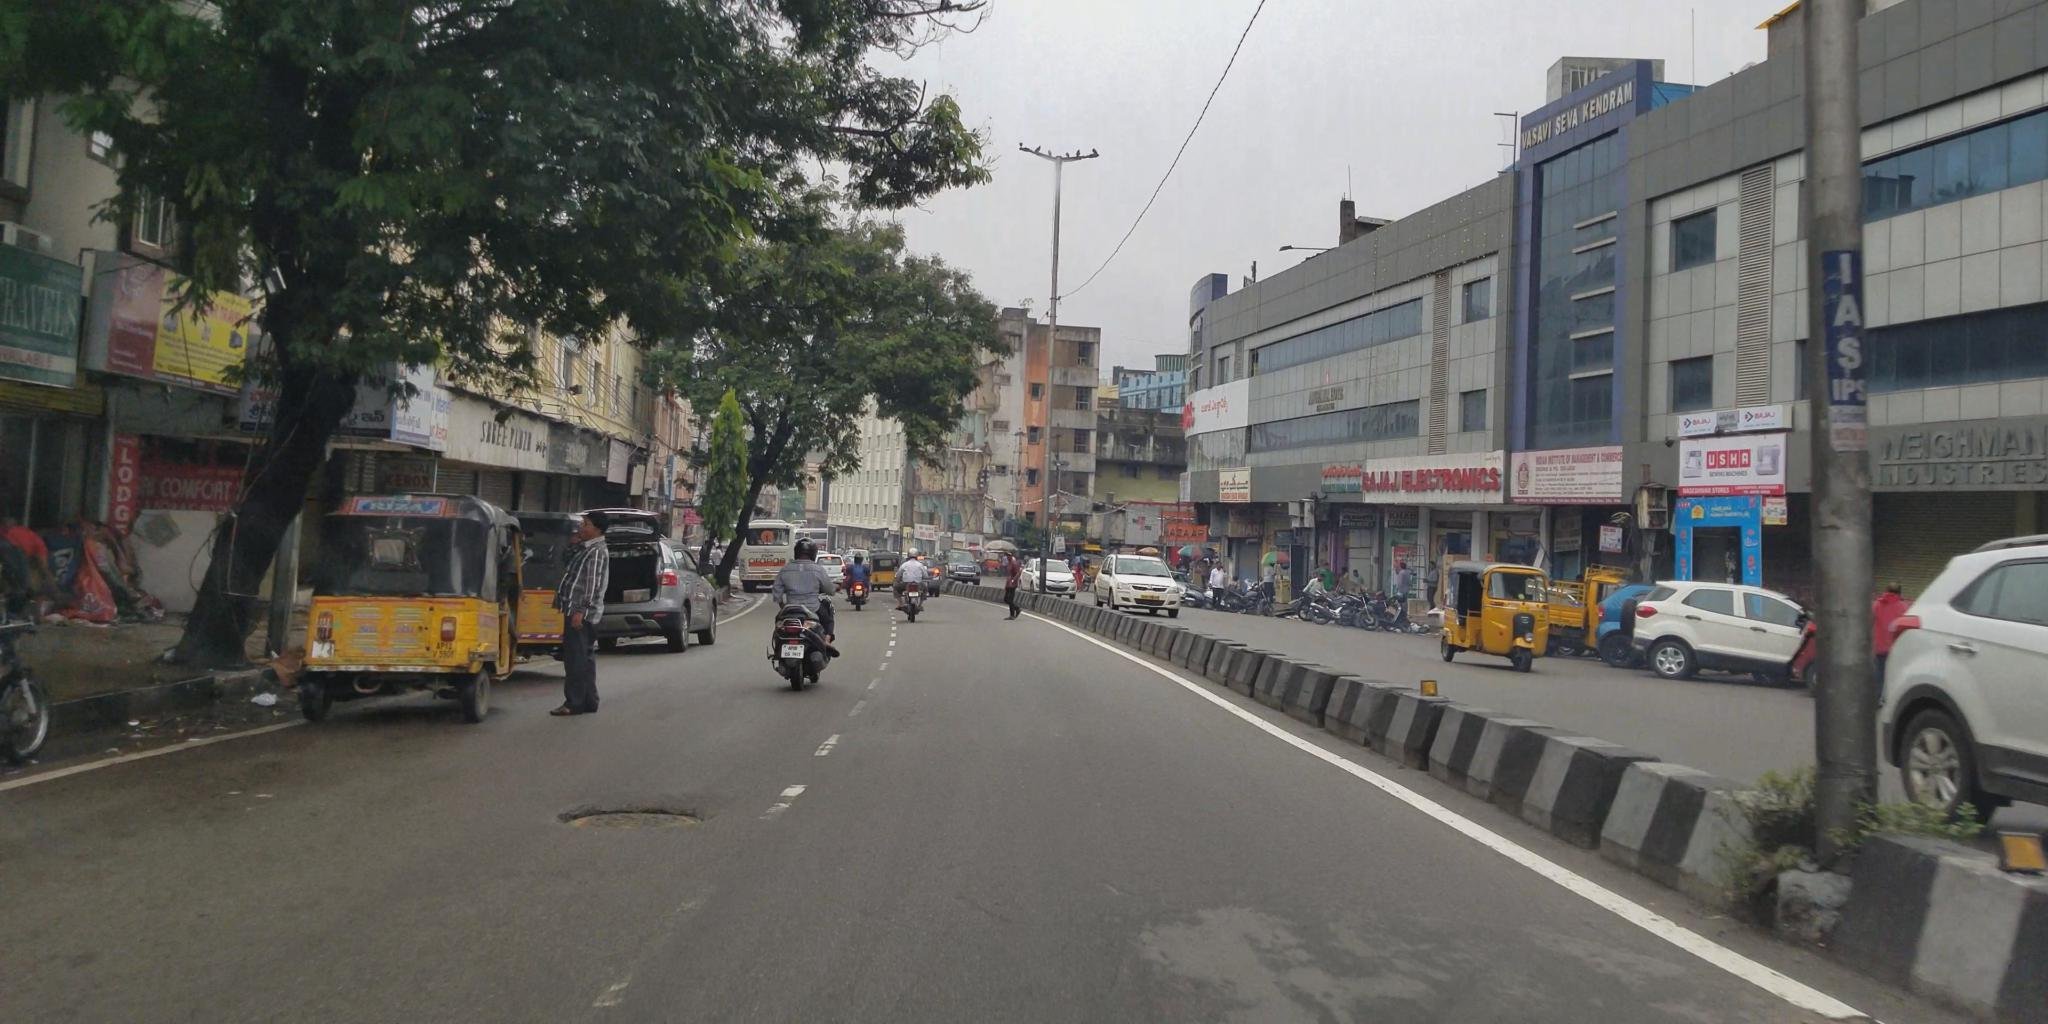off: (71, 31, 2048, 1024)
